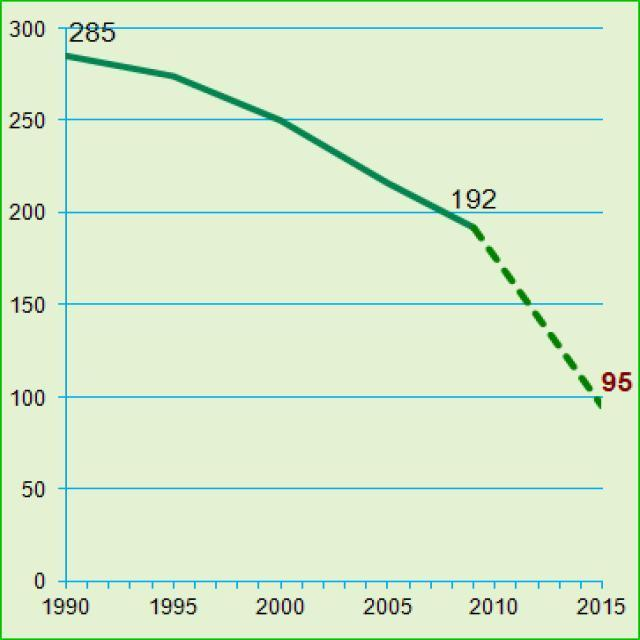axis: (53, 18, 74, 595), (53, 575, 614, 592)
line: (66, 51, 603, 414)
